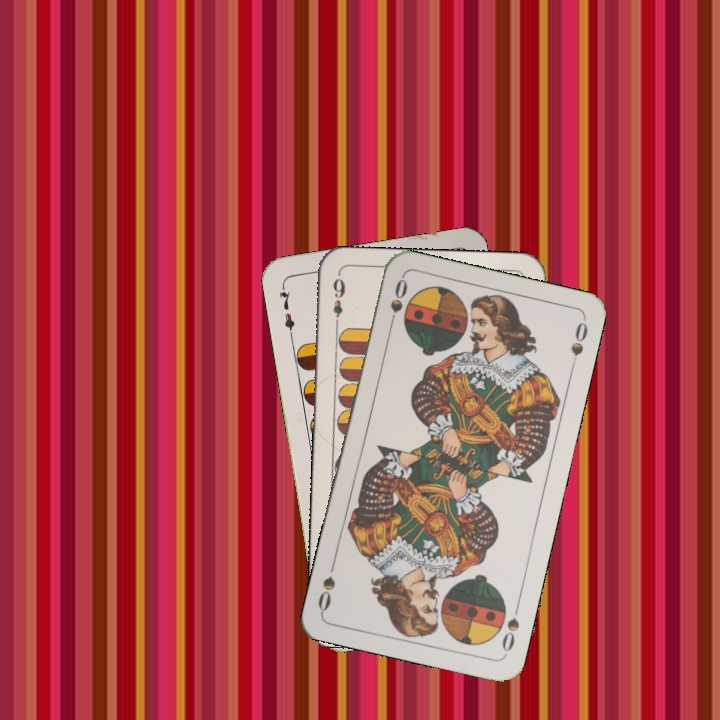E7: (275, 281, 298, 340)
E9: (328, 274, 348, 330)
SO: (497, 599, 523, 657), (385, 274, 410, 332)
